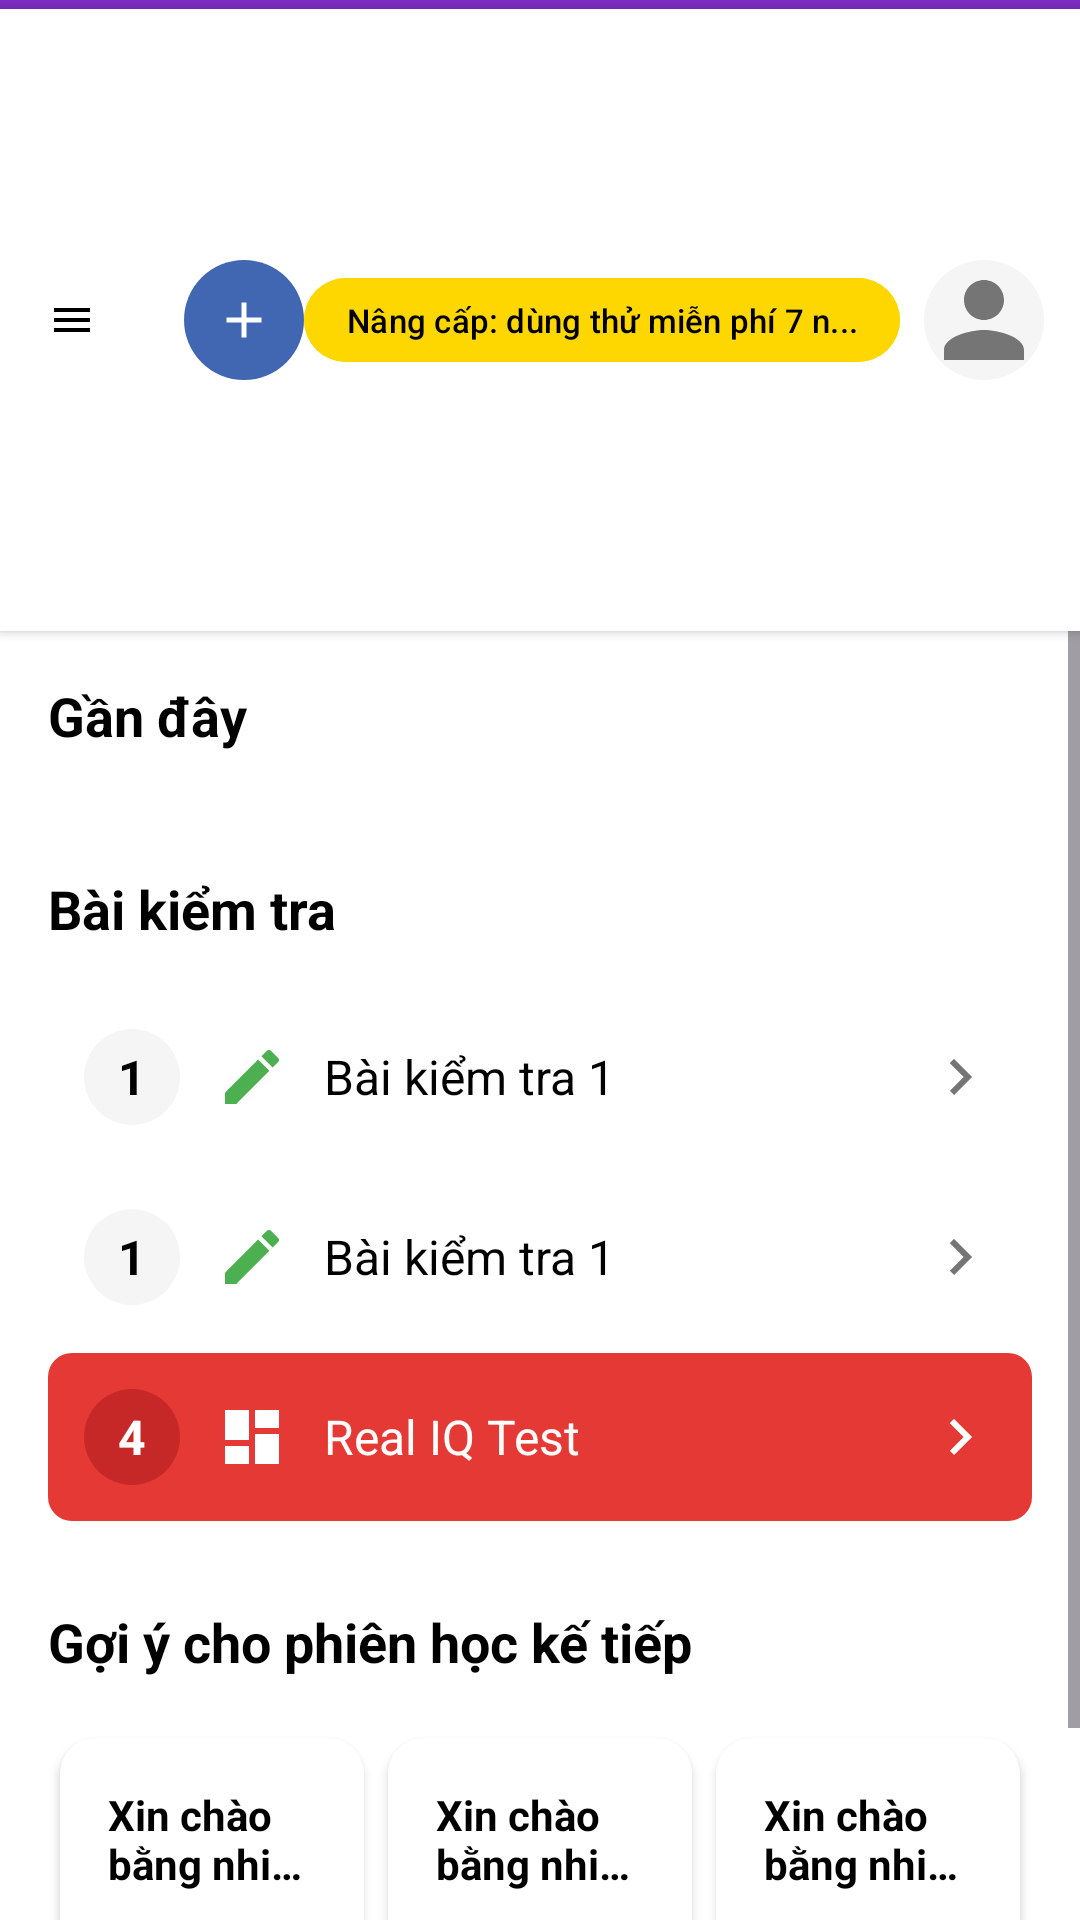

Screen size 1080px×1920px. Icon name, then its box in pixels as (x1, y1, x2, y2):
add: (184, 260, 304, 380)
arrow right: (950, 1059, 972, 1095), (950, 1239, 972, 1275), (950, 1419, 972, 1455)
menu: (54, 308, 90, 332)
pencil: (225, 1050, 279, 1104), (225, 1230, 279, 1284)
profile: (944, 280, 1024, 360)
